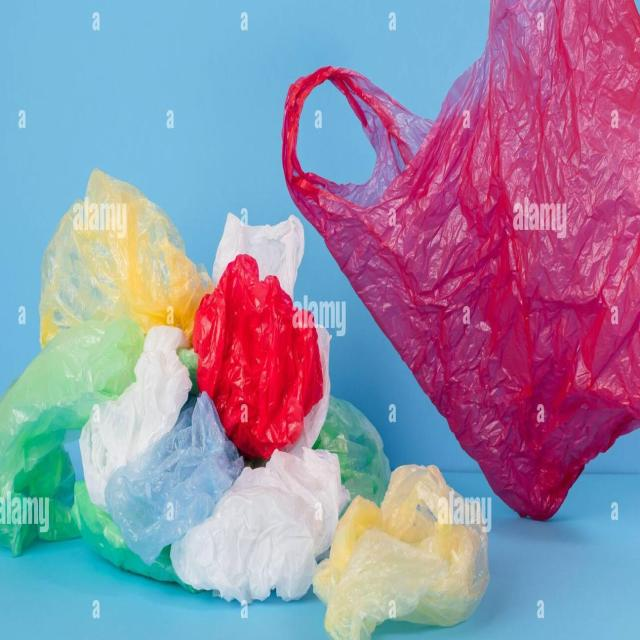Single-layer Plastic: (282, 0, 640, 519), (0, 319, 144, 555), (39, 170, 212, 345), (315, 466, 489, 639), (170, 448, 349, 603), (194, 254, 322, 459), (105, 393, 244, 565), (80, 326, 191, 508), (71, 481, 196, 592), (314, 397, 391, 505), (212, 214, 305, 299), (286, 326, 330, 455)
